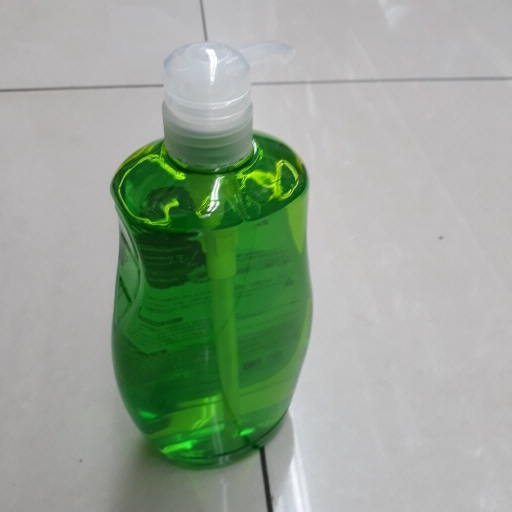Plastic_3: (112, 40, 313, 468)
